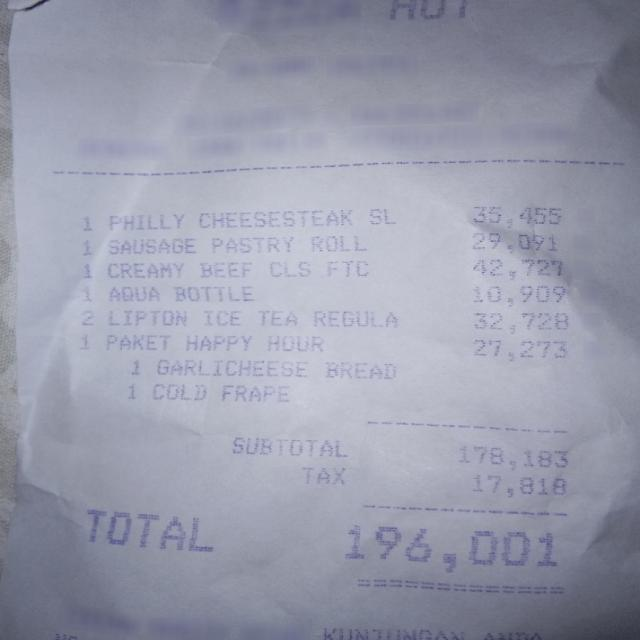text: (340, 523, 556, 570), (81, 508, 211, 550), (152, 358, 307, 378), (195, 208, 350, 227), (457, 443, 568, 468), (231, 434, 348, 456), (473, 310, 565, 334), (468, 284, 564, 306), (470, 338, 566, 360), (468, 205, 560, 227), (468, 257, 561, 278), (471, 474, 564, 495), (468, 232, 554, 254), (107, 237, 193, 254), (389, 0, 465, 19), (104, 261, 183, 278), (105, 212, 183, 229), (105, 309, 187, 325), (314, 310, 395, 326), (102, 332, 172, 350), (323, 361, 394, 378), (219, 384, 286, 402), (211, 236, 290, 251), (172, 285, 250, 299), (148, 382, 206, 400), (185, 333, 250, 349), (311, 234, 364, 251), (198, 260, 250, 277), (266, 334, 320, 349), (300, 466, 343, 483), (108, 285, 158, 299), (326, 260, 367, 275), (269, 261, 307, 276), (258, 309, 294, 323), (203, 309, 238, 323), (368, 207, 395, 222), (76, 212, 92, 231), (76, 237, 92, 256), (80, 310, 96, 326), (79, 262, 93, 280), (78, 332, 92, 350), (123, 382, 137, 400), (126, 360, 142, 375), (79, 285, 93, 302)
